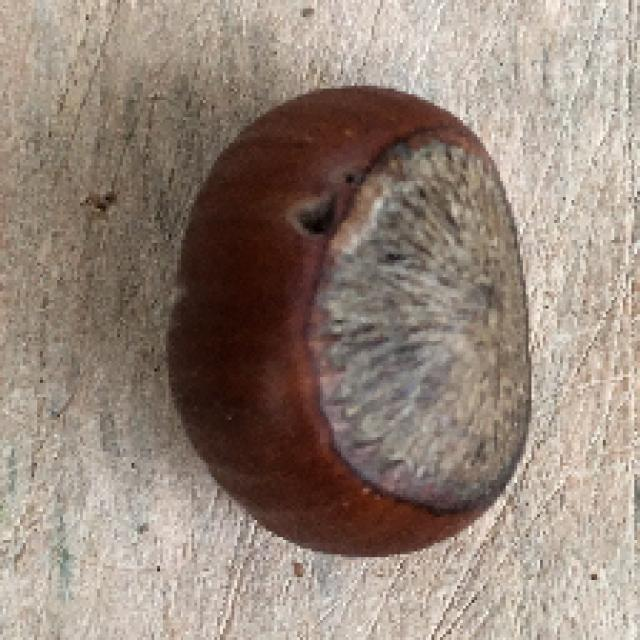damagedHazelnut: (162, 80, 532, 568)
